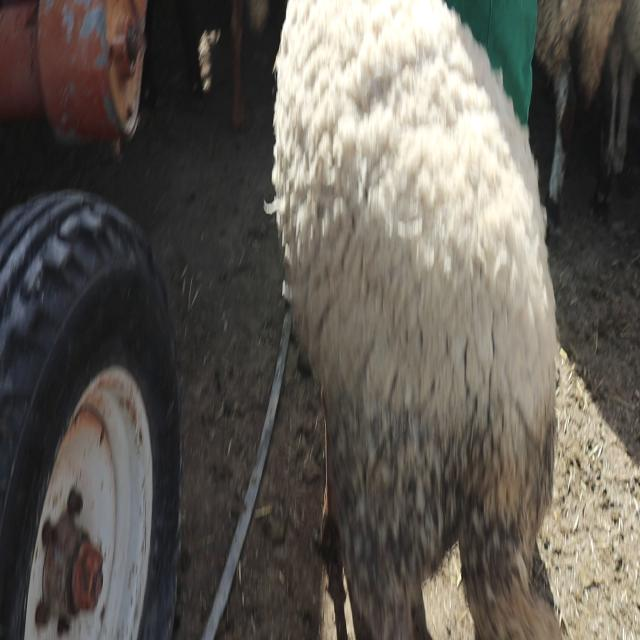Score_5: (269, 0, 560, 639)
